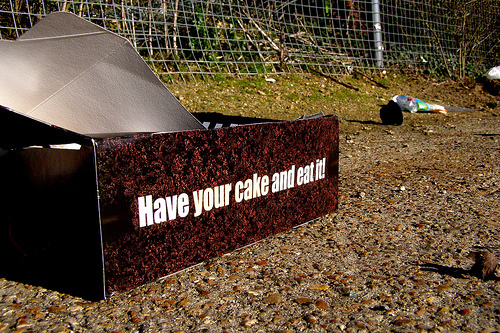litter: (1, 11, 340, 302), (390, 95, 448, 115), (377, 102, 404, 125), (485, 64, 500, 84)
